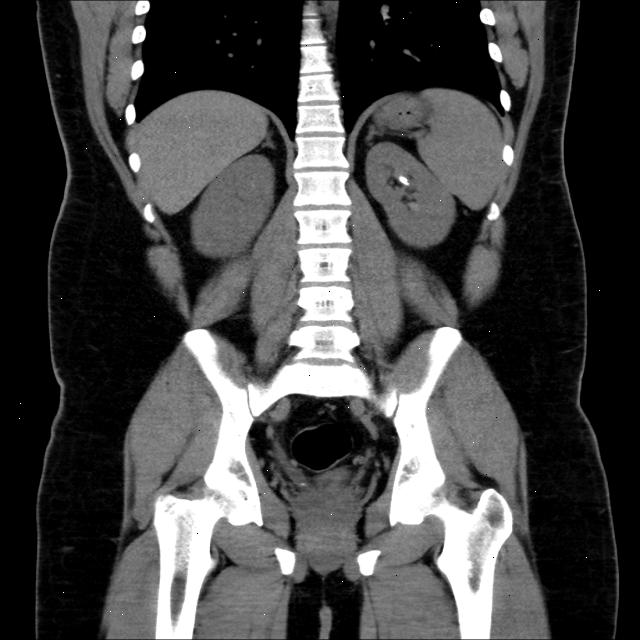kidneystone: (399, 176, 410, 186)
